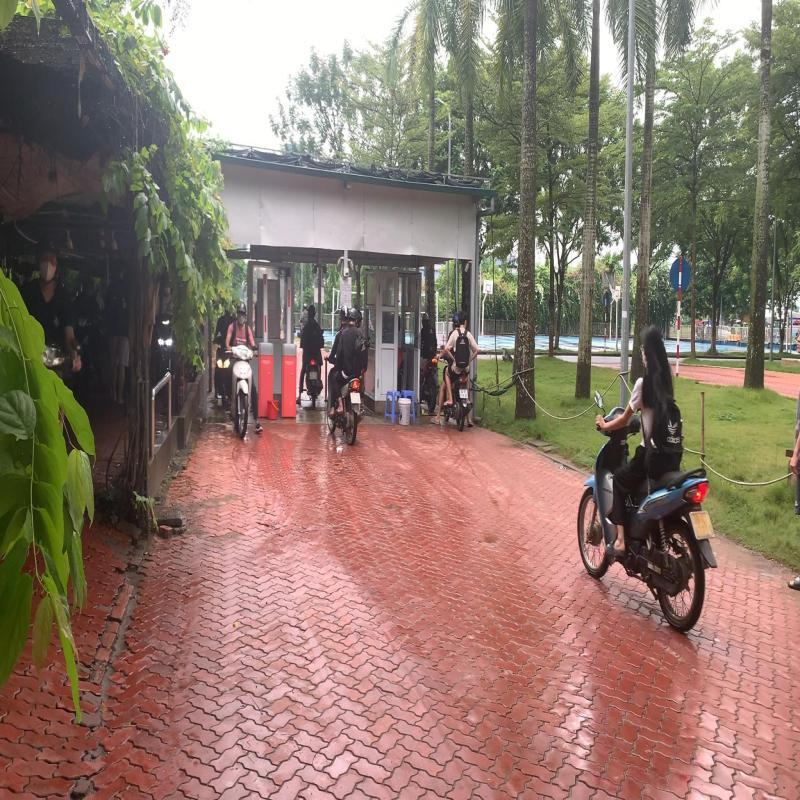nohelmet: (638, 321, 668, 375)
